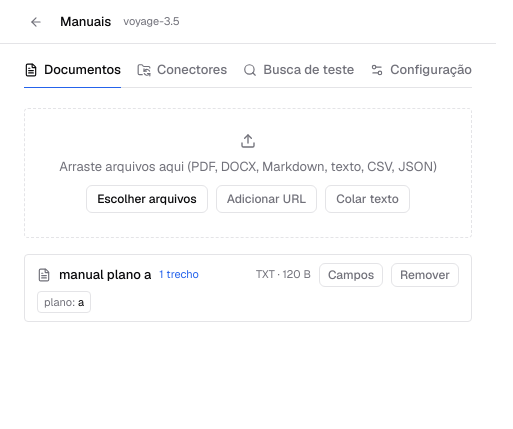
cross-encoder e filtros › filtro sem comparação também avisa quando o filtro cai
Step 1. Click the tab "Busca de teste" → (299, 70), box [243,52,354,88]
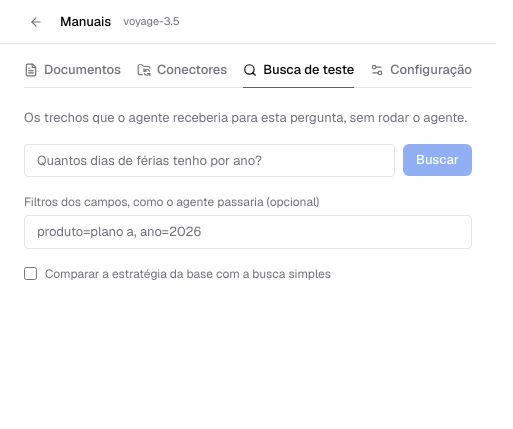
expect the checkbox labelled "Comparar a estratégia da base com a busca simples" is not checked: met, box [24,267,37,280]
Step 2. Type "cancelar" into the field named "Pergunta" → (210, 160), box [24,144,395,177]
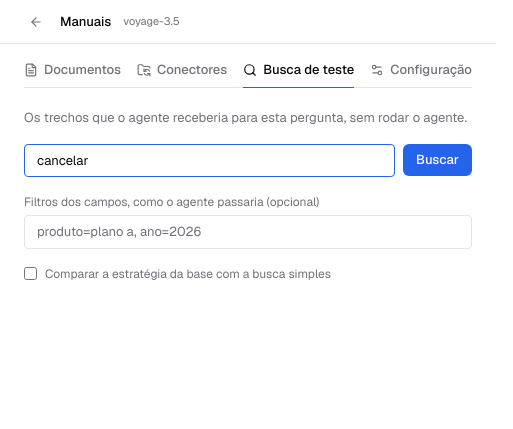
Step 3. Type "plano=c" into the field with placeholder "produto=plano a, ano=2026" → (248, 232), box [24,215,472,248]
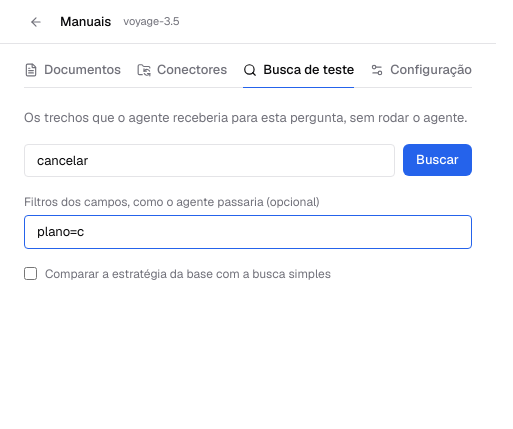
Step 4. Click the button "Buscar" → (438, 160), box [403,144,472,176]
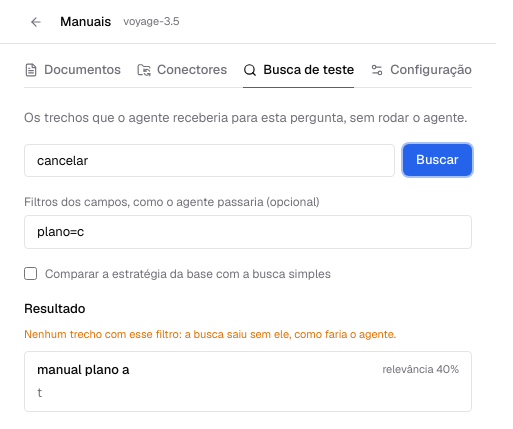
expect the text "a busca saiu sem ele" is shown: met, box [24,327,396,341]
